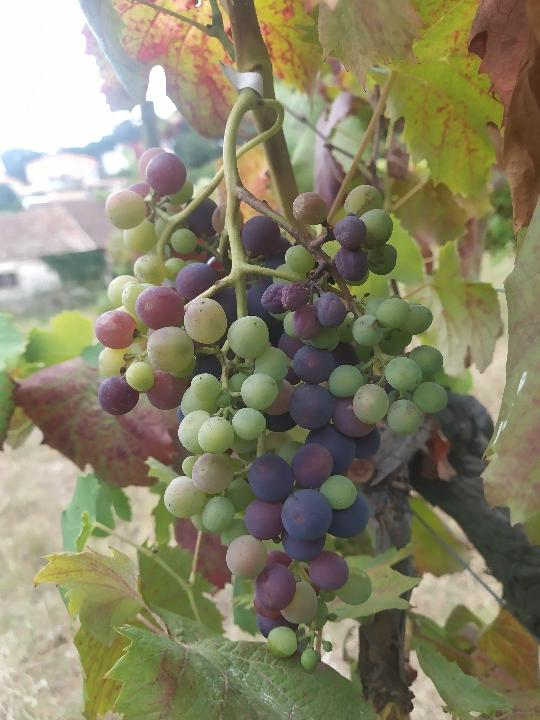grape: (92, 142, 454, 674)
